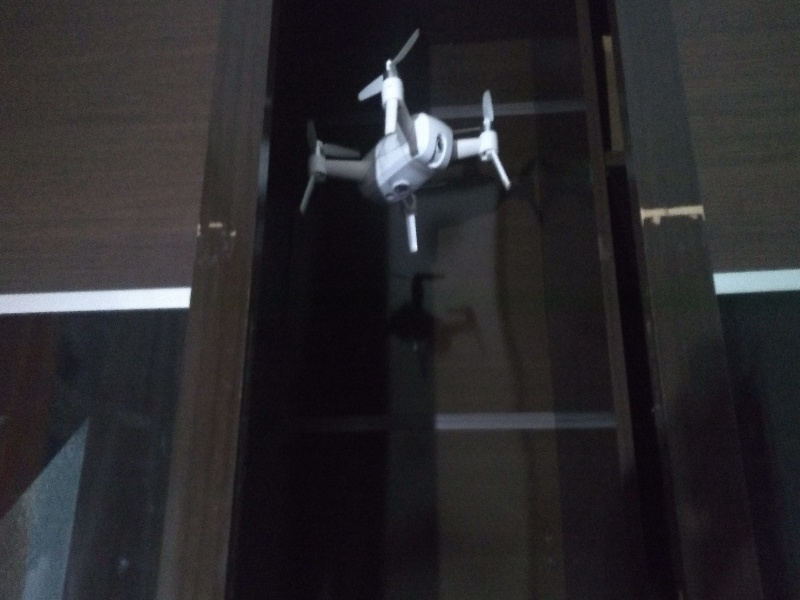drone: (296, 46, 520, 255)
